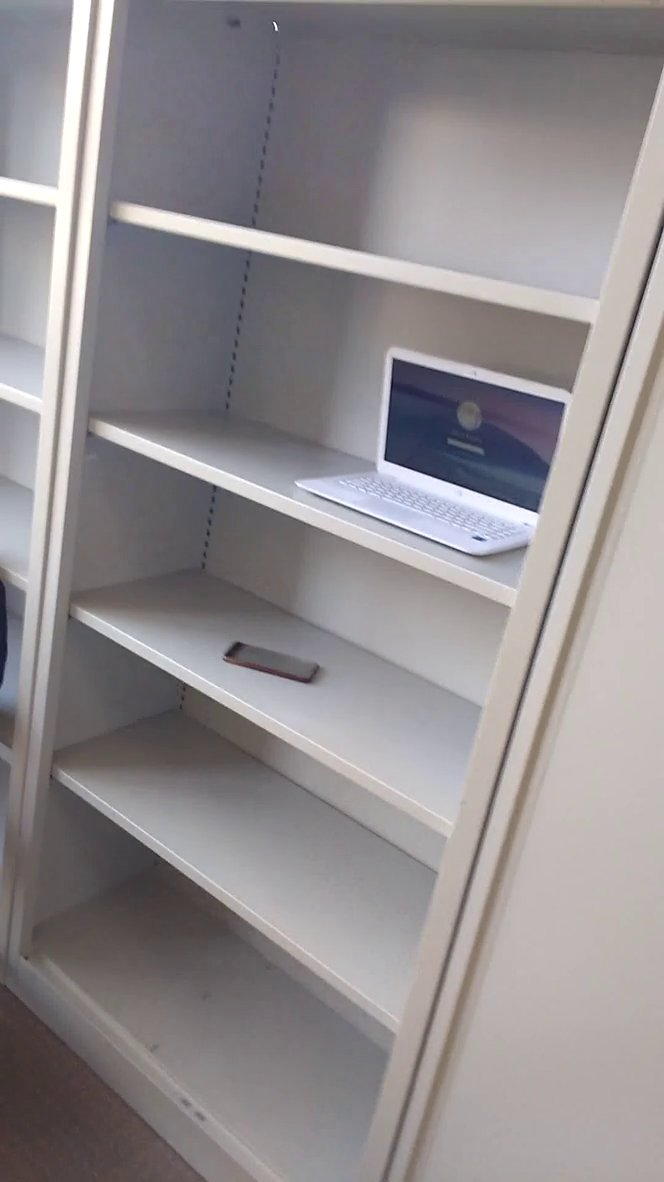laptop: (287, 336, 612, 570)
phone: (214, 633, 329, 697)
